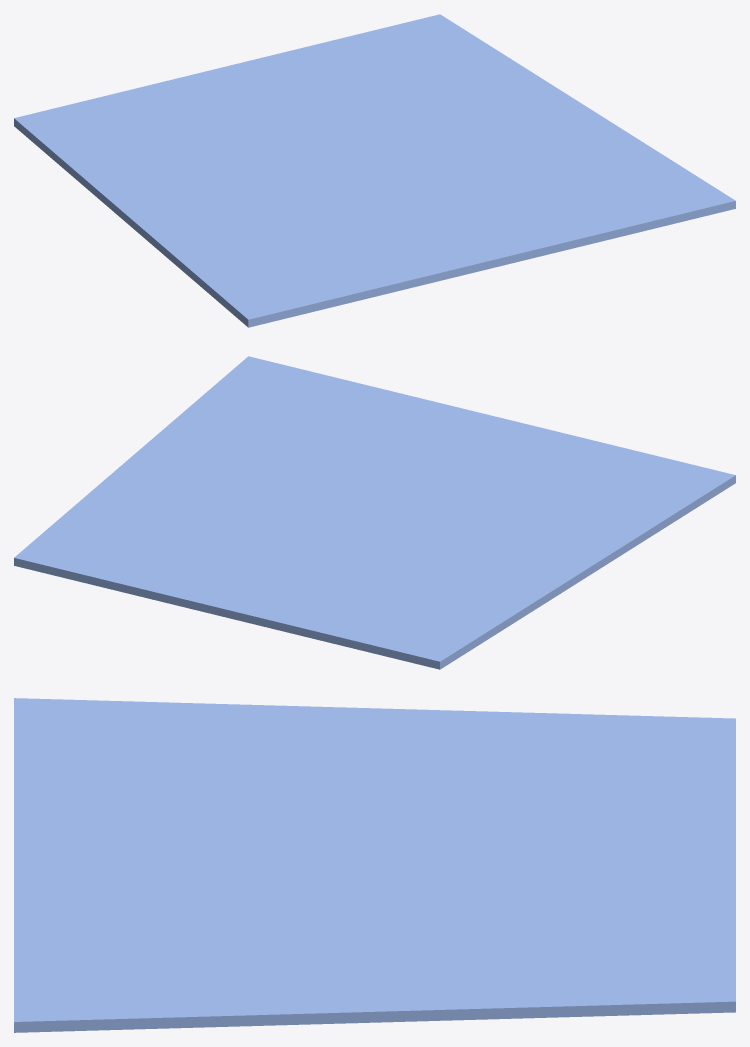
Rendered from BasementCeiling.fbx.
The picture shows the model from 3 angles, top to bottom: view 1: azimuth 30°, elevation 25°; view 2: azimuth 150°, elevation 25°; view 3: azimuth 270°, elevation 25°; orthographic projection. The views are drawn at different scales.
Visible parts, largest first — view 1: BasementCeiling; view 2: BasementCeiling; view 3: BasementCeiling.
Part boxes in pixels (x1,y1,x2,y2): BasementCeiling: (14, 14, 735, 327); BasementCeiling: (14, 356, 735, 669); BasementCeiling: (14, 698, 735, 1032).
Size of the model in its own units: 4.52 by 0.0706 by 4.26.
